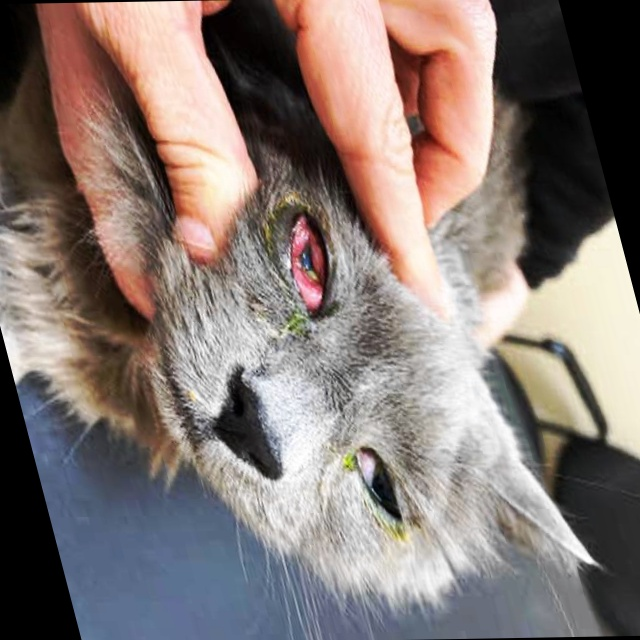eye_infection: (261, 211, 353, 327), (352, 448, 410, 537)
